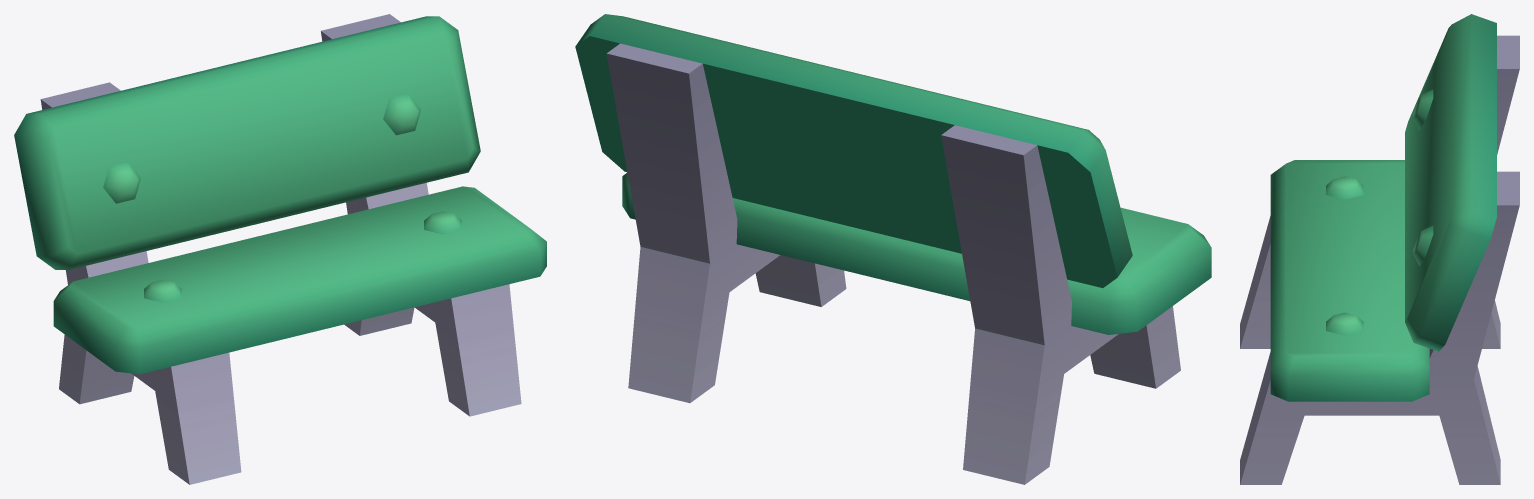
The model's file is skate-bench.glb.
The picture shows the model from 3 angles, left to right: view 1: azimuth 30°, elevation 25°; view 2: azimuth 150°, elevation 25°; view 3: azimuth 270°, elevation 25°; orthographic projection. The views are drawn at different scales.
Visible parts, largest first — view 1: bench; view 2: bench; view 3: bench.
Part boxes in pixels (x1,y1,x2,y2): bench: (14, 14, 546, 484); bench: (575, 14, 1211, 484); bench: (1240, 14, 1519, 484).
Bounding box in the file's own units: 0.7783 × 0.5072 × 0.4389.
1 material, 1 textured.
